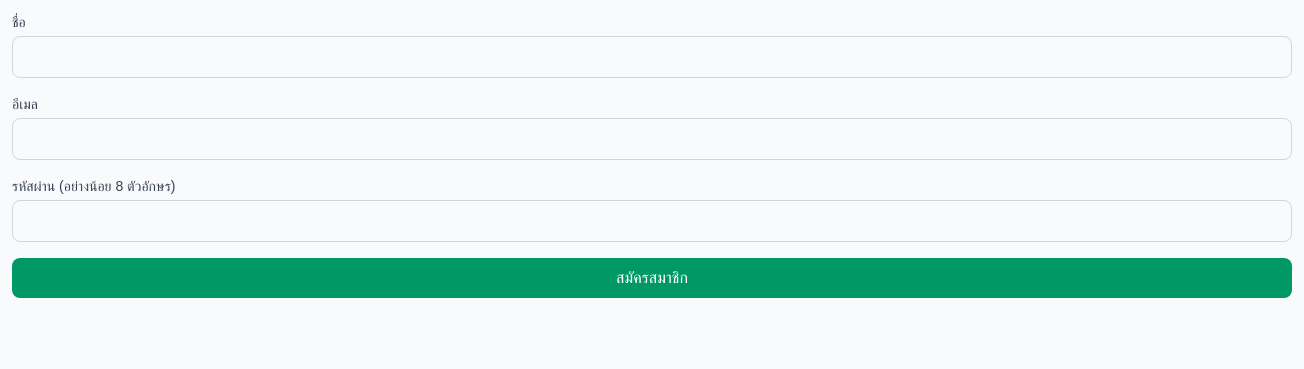
Test: <RegisterForm /> › shows a friendly message when the server cannot be reached
Step 1. Type "สมชาย" into the field labelled "ชื่อ" → (652, 57), box [12, 36, 1292, 78]
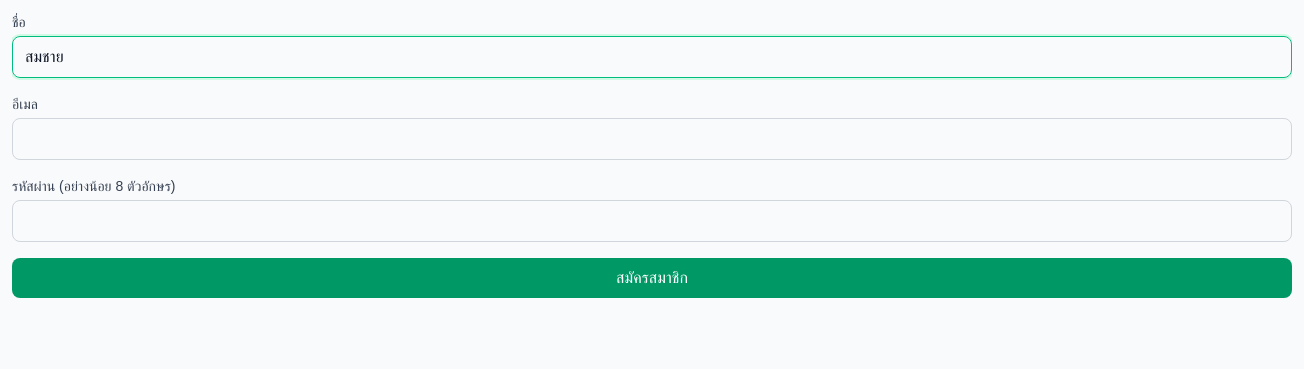
Step 2. Type "a@example.com" into the field labelled "อีเมล" → (652, 139), box [12, 118, 1292, 160]
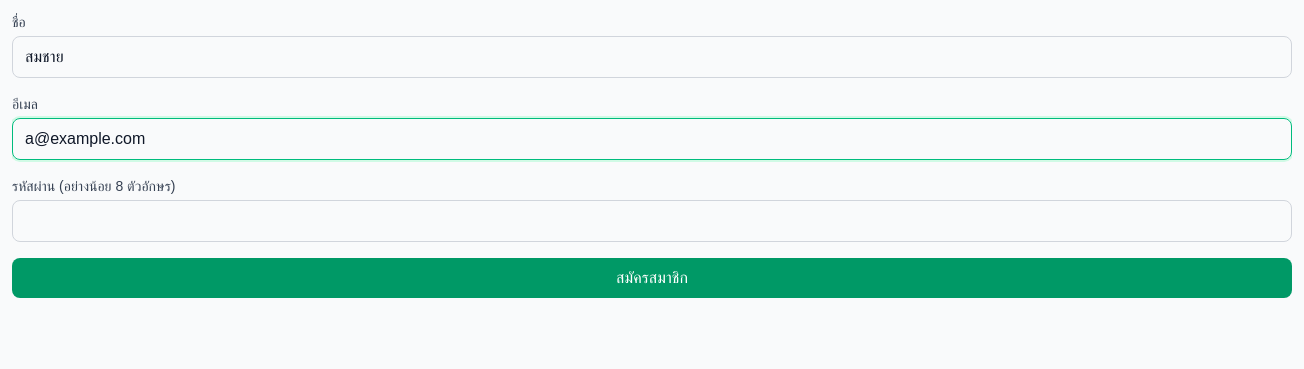
Step 3. Type "correct-horse-1" into the password field labelled "รหัสผ่าน (อย่างน้อย 8 ตัวอักษร)" → (652, 221), box [12, 200, 1292, 242]
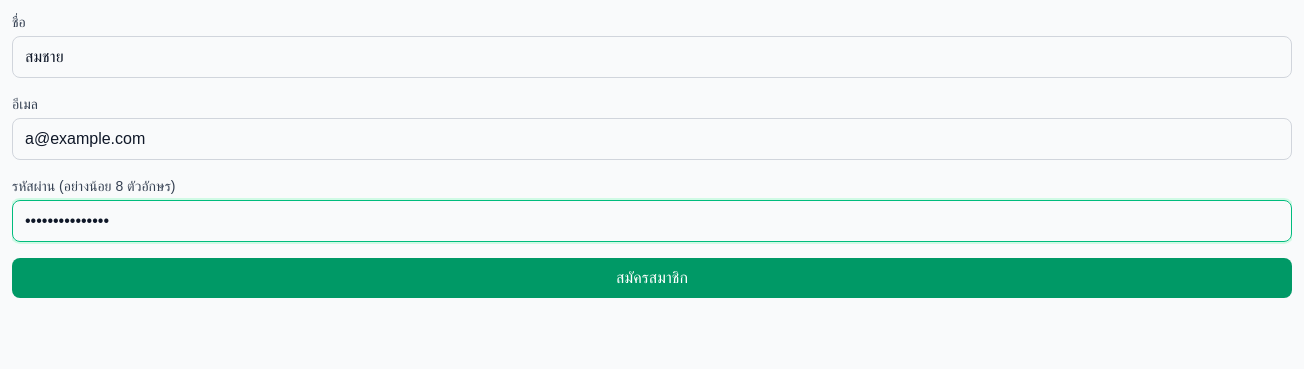
Step 4. Click the button "สมัครสมาชิก" → (652, 278), box [12, 258, 1292, 298]
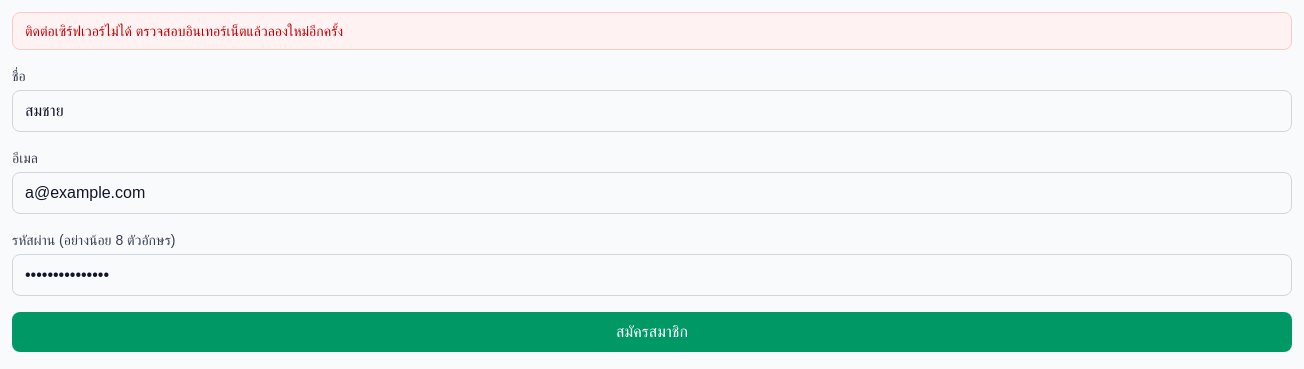
Expected: the button "สมัครสมาชิก" is enabled, [12, 312, 1292, 352]
Now the message shows "ติดต่อเซิร์ฟเวอร์ไม่ได้", box [25, 23, 343, 39]
